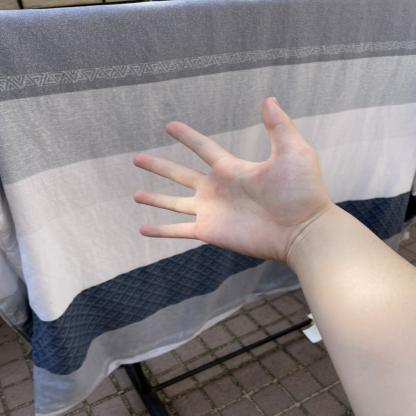bare_hand: (121, 95, 350, 273)
